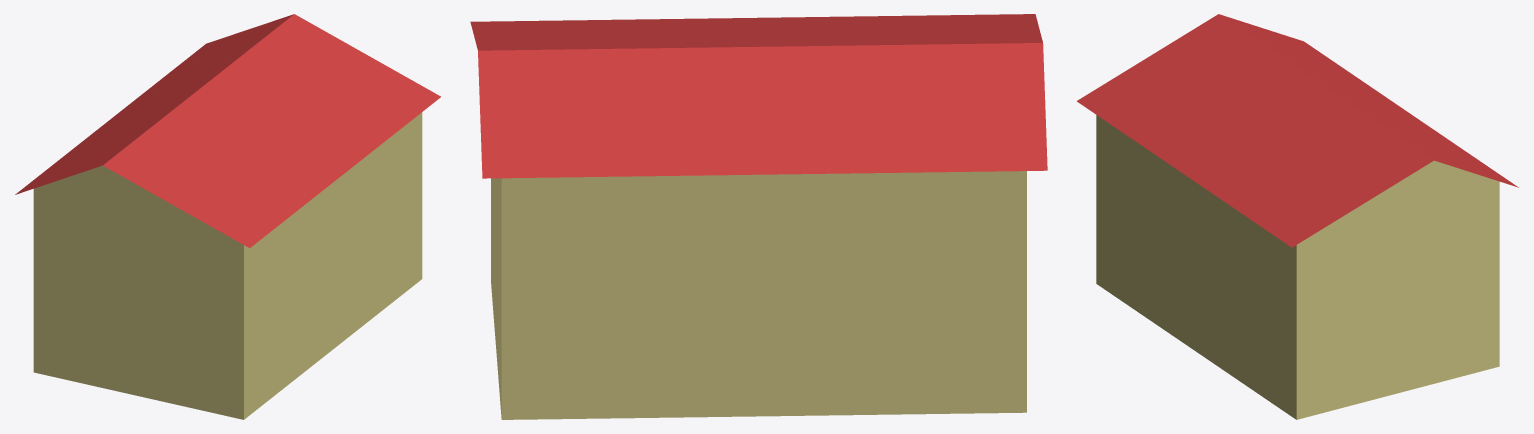
3 views of the same model, side by side, from view 1: azimuth 30°, elevation 25°; view 2: azimuth 150°, elevation 25°; view 3: azimuth 270°, elevation 25° (orthographic). The views are drawn at different scales.
Size of the model in its own units: 17.03 by 15.45 by 8.87.
